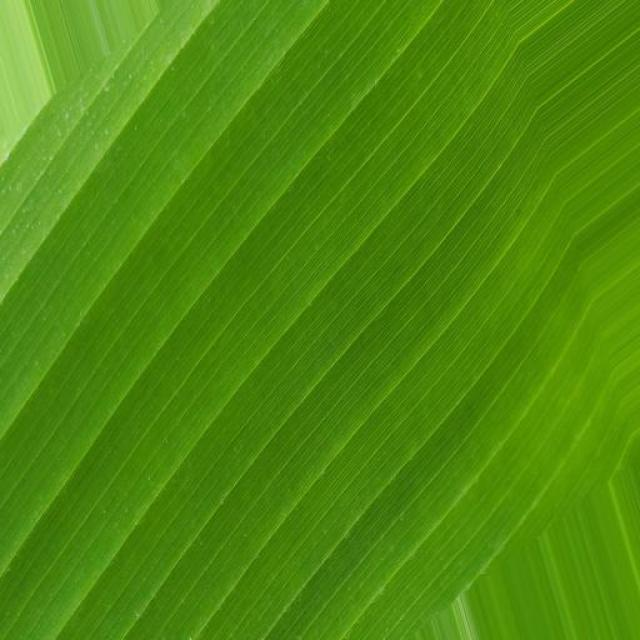Black_leaf_spot: (0, 14, 611, 584)
